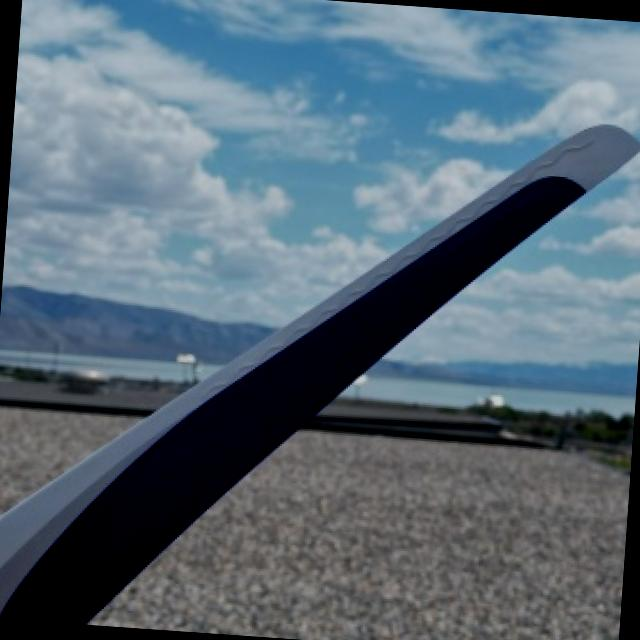healthy: (0, 122, 640, 622)
